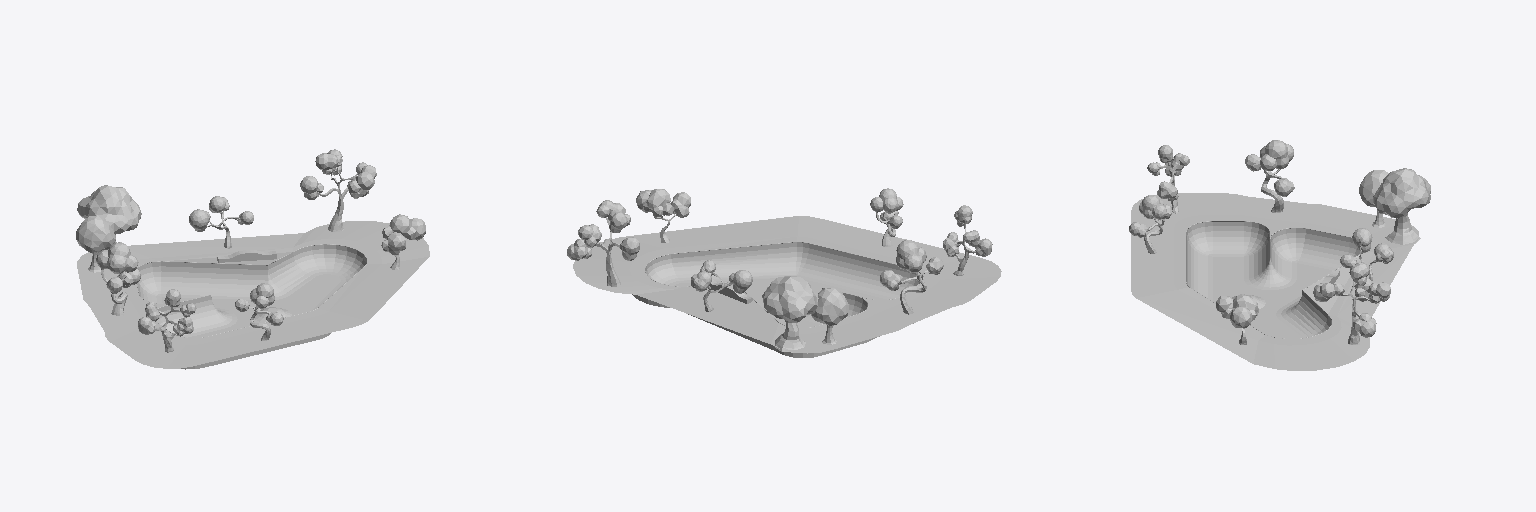
File: uploads_files_3779539_lowpoly_skatepark.obj
The picture shows the model from 3 angles: view 1: azimuth 30°, elevation 25°; view 2: azimuth 150°, elevation 25°; view 3: azimuth 270°, elevation 25°; orthographic projection.
Parts seen in each view (by area): view 1: terrain_Circle.004, Circle, LowPoly_Tree_04_lowpoly_tree_05_Mesh.001, Plane, LowPoly_Tree_02_Cube.000, LowPoly_Tree_06_lowpoly_tree_02_Mesh.005, LowPoly_Tree_05_lowpoly_tree_03_Cube, LowPoly_Tree_07_lowpoly_tree_04_Plane.012, LowPoly_Tree_01_Plane_Plane.000, LowPoly_Tree_06_lowpoly_tree_02_Mesh.001, LowPoly_Tree_03_lowpoly_tree_01_Plane.013, Cube_Cube.001; view 2: terrain_Circle.004, Circle, LowPoly_Tree_02_Cube.000, LowPoly_Tree_04_lowpoly_tree_05_Mesh.001, LowPoly_Tree_06_lowpoly_tree_02_Mesh.005, LowPoly_Tree_07_lowpoly_tree_04_Plane.012, LowPoly_Tree_05_lowpoly_tree_03_Cube, LowPoly_Tree_01_Plane_Plane.000, LowPoly_Tree_03_lowpoly_tree_01_Plane.013, LowPoly_Tree_06_lowpoly_tree_02_Mesh.001, Plane; view 3: terrain_Circle.004, Circle, Plane, LowPoly_Tree_02_Cube.000, LowPoly_Tree_04_lowpoly_tree_05_Mesh.001, LowPoly_Tree_06_lowpoly_tree_02_Mesh.005, LowPoly_Tree_05_lowpoly_tree_03_Cube, LowPoly_Tree_07_lowpoly_tree_04_Plane.012, LowPoly_Tree_06_lowpoly_tree_02_Mesh.001, LowPoly_Tree_03_lowpoly_tree_01_Plane.013, LowPoly_Tree_01_Plane_Plane.000.
Boxes of the visible parts, x1,y1,x2,y2 form: terrain_Circle.004: [77, 221, 429, 368]; Circle: [125, 239, 381, 369]; LowPoly_Tree_04_lowpoly_tree_05_Mesh.001: [300, 149, 376, 231]; Plane: [162, 274, 340, 337]; LowPoly_Tree_02_Cube.000: [77, 185, 141, 252]; LowPoly_Tree_06_lowpoly_tree_02_Mesh.005: [96, 242, 140, 315]; LowPoly_Tree_05_lowpoly_tree_03_Cube: [138, 289, 196, 352]; LowPoly_Tree_07_lowpoly_tree_04_Plane.012: [381, 214, 425, 269]; LowPoly_Tree_01_Plane_Plane.000: [76, 215, 115, 272]; LowPoly_Tree_06_lowpoly_tree_02_Mesh.001: [235, 283, 283, 340]; LowPoly_Tree_03_lowpoly_tree_01_Plane.013: [189, 196, 253, 248]; Cube_Cube.001: [217, 250, 276, 262]; terrain_Circle.004: [573, 216, 1001, 353]; Circle: [629, 236, 940, 357]; LowPoly_Tree_02_Cube.000: [762, 276, 818, 352]; LowPoly_Tree_04_lowpoly_tree_05_Mesh.001: [567, 200, 639, 286]; LowPoly_Tree_06_lowpoly_tree_02_Mesh.005: [880, 240, 943, 314]; LowPoly_Tree_07_lowpoly_tree_04_Plane.012: [636, 189, 690, 242]; LowPoly_Tree_05_lowpoly_tree_03_Cube: [943, 205, 992, 275]; LowPoly_Tree_01_Plane_Plane.000: [811, 288, 848, 344]; LowPoly_Tree_03_lowpoly_tree_01_Plane.013: [691, 260, 752, 311]; LowPoly_Tree_06_lowpoly_tree_02_Mesh.001: [870, 188, 903, 246]; Plane: [674, 278, 886, 327]; terrain_Circle.004: [1131, 193, 1418, 370]; Circle: [1174, 215, 1377, 345]; Plane: [1213, 257, 1331, 338]; LowPoly_Tree_02_Cube.000: [1373, 168, 1430, 244]; LowPoly_Tree_04_lowpoly_tree_05_Mesh.001: [1313, 262, 1390, 344]; LowPoly_Tree_06_lowpoly_tree_02_Mesh.005: [1245, 140, 1294, 212]; LowPoly_Tree_05_lowpoly_tree_03_Cube: [1147, 145, 1189, 213]; LowPoly_Tree_07_lowpoly_tree_04_Plane.012: [1216, 294, 1258, 344]; LowPoly_Tree_06_lowpoly_tree_02_Mesh.001: [1129, 195, 1172, 253]; LowPoly_Tree_03_lowpoly_tree_01_Plane.013: [1340, 228, 1393, 280]; LowPoly_Tree_01_Plane_Plane.000: [1359, 170, 1388, 227].
Size of the model in its own units: 15.2 by 3.94 by 11.37.